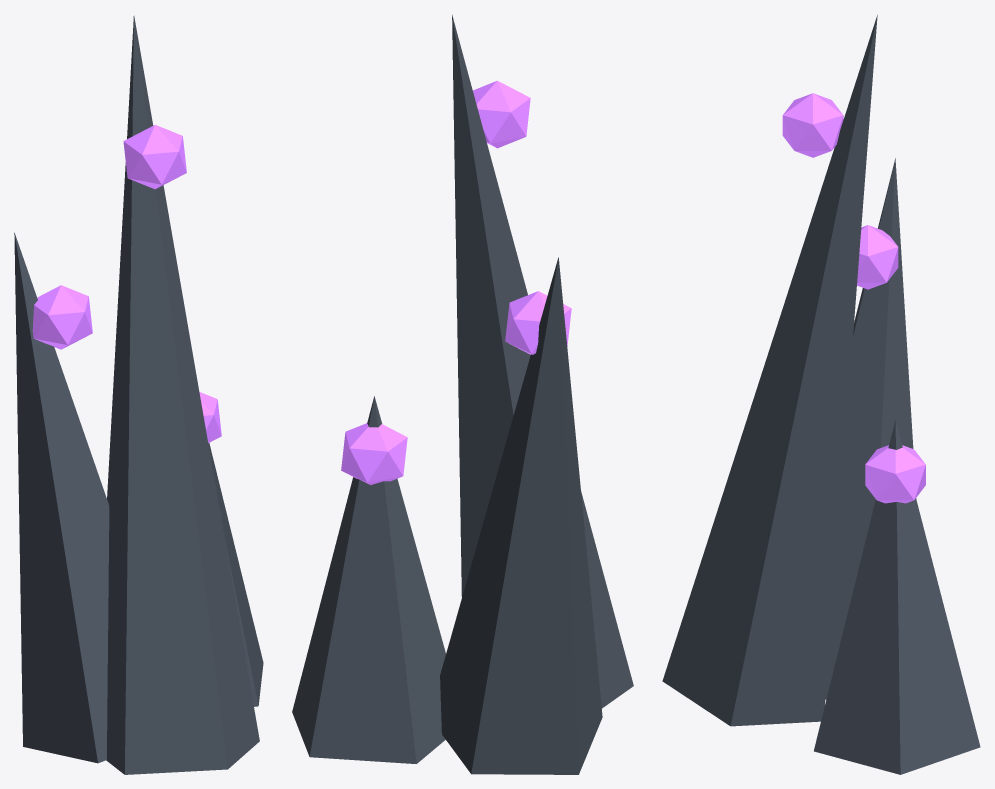
File: nest-spire.fbx
The picture shows the model from 3 angles, left to right: view 1: azimuth 30°, elevation 25°; view 2: azimuth 150°, elevation 25°; view 3: azimuth 270°, elevation 25°; orthographic projection. The views are drawn at different scales.
Visible parts, largest first — view 1: basalt shard.002, basalt shard, eclipse core.002, eclipse core, basalt shard.001, eclipse core.001; view 2: basalt shard, basalt shard.001, basalt shard.002, eclipse core.001, eclipse core.002, eclipse core; view 3: basalt shard.002, basalt shard.001, basalt shard, eclipse core.002, eclipse core.001, eclipse core.
Boxes of the visible parts, <box> form: basalt shard.002: <box>106,15,259,774</box>; basalt shard: <box>14,232,109,763</box>; eclipse core.002: <box>123,125,186,189</box>; eclipse core: <box>32,285,92,349</box>; basalt shard.001: <box>208,443,263,706</box>; eclipse core.001: <box>199,392,221,442</box>; basalt shard: <box>440,257,602,774</box>; basalt shard.001: <box>292,396,445,763</box>; basalt shard.002: <box>452,14,633,708</box>; eclipse core.001: <box>341,423,407,484</box>; eclipse core.002: <box>473,80,530,148</box>; eclipse core: <box>505,291,571,354</box>; basalt shard.002: <box>662,15,877,726</box>; basalt shard.001: <box>814,419,980,774</box>; basalt shard: <box>825,158,916,699</box>; eclipse core.002: <box>782,93,843,157</box>; eclipse core.001: <box>865,445,925,503</box>; eclipse core: <box>857,225,898,289</box>.
Size of the model in its own units: 54.03 by 141 by 57.91.
